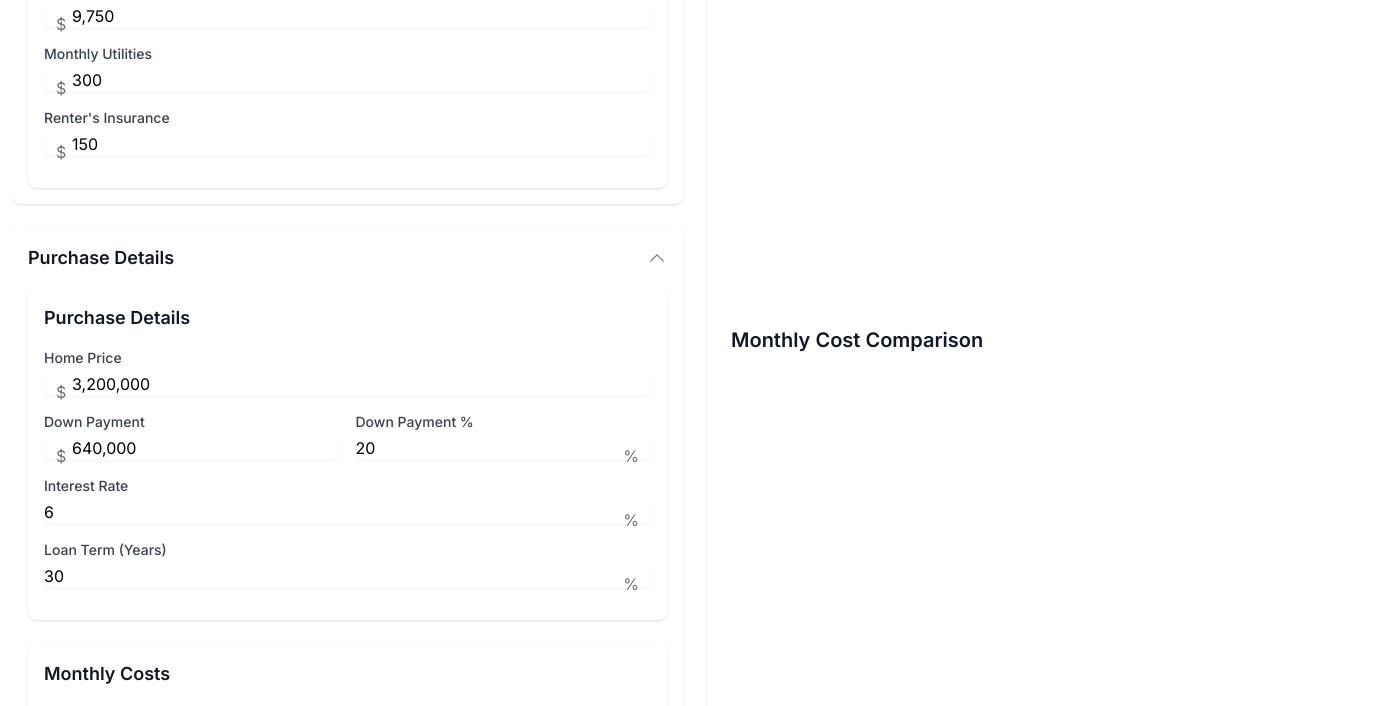
Test: Calculator › updates buy values correctly
This screenshot has width=1378, height=706.
(page scrolled)
Replace the text in the field labelled "Home Price" with "450000" at (348, 384), box [44,372,651,396]
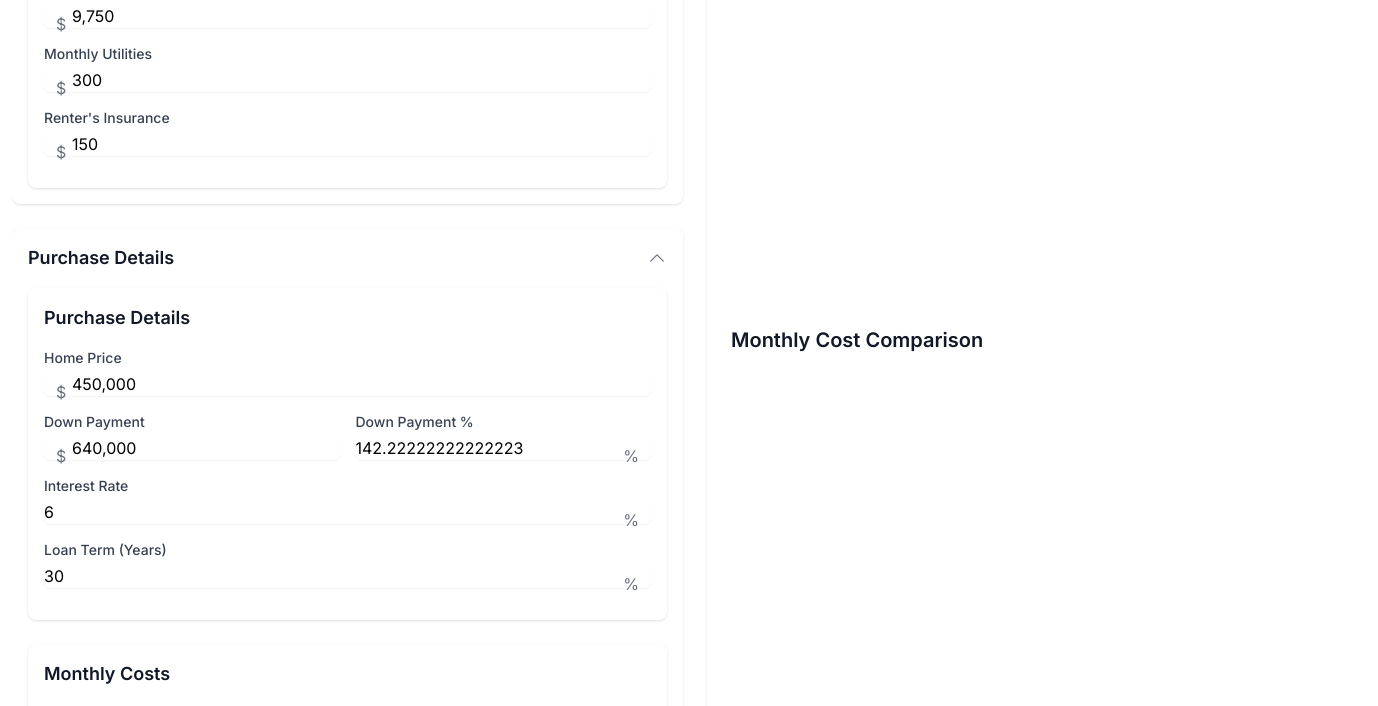
Expected: the field labelled "Home Price" holds "450,000", [44,372,651,396]
